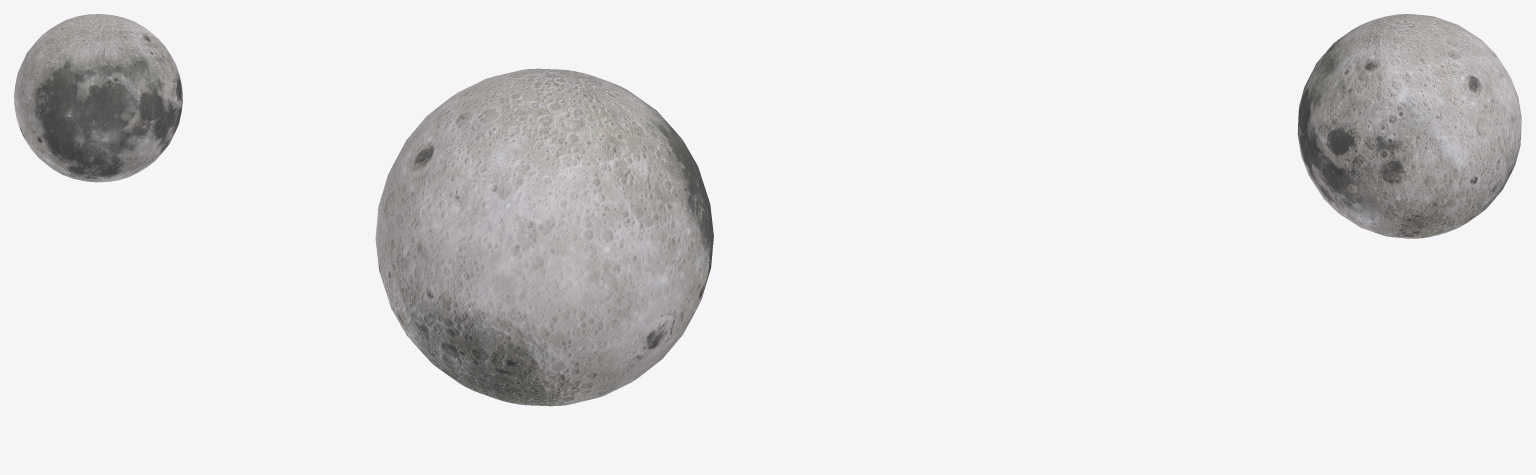
File: AR月オブジェクト（222.glb
3 views of the same model, side by side, from view 1: azimuth 30°, elevation 25°; view 2: azimuth 150°, elevation 25°; view 3: azimuth 270°, elevation 25° (orthographic). The views are drawn at different scales.
Parts seen in each view (by area): view 1: 立方体.002; view 2: 立方体.002; view 3: 立方体.002.
Boxes of the visible parts, <box> form: 立方体.002: <box>14,14,182,182</box>; 立方体.002: <box>375,68,713,406</box>; 立方体.002: <box>1297,14,1521,238</box>.
Bounding box in the file's own units: 172 × 344 × 496.
1 material, 1 textured.
